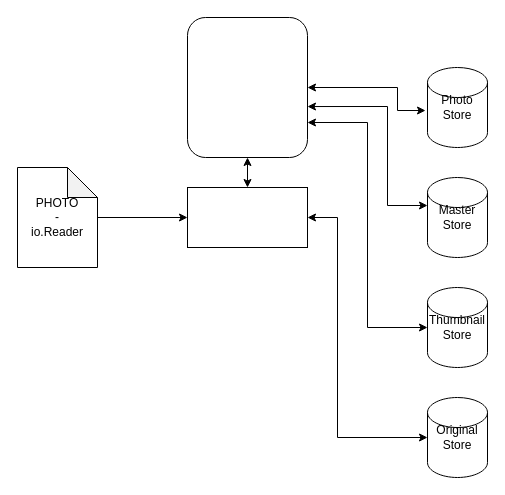
The diagram is 505 pixels wide and 495 high, and some of its shapes have lost their labels. Each missing label, with the box of its shape:
PHOTO PROCESSOR -CanProcess(io.Reader) Process(io.Reader): (186, 16, 308, 158)
UPLOAD CONTROLLER - Upload(io.Reader): (186, 186, 308, 248)
